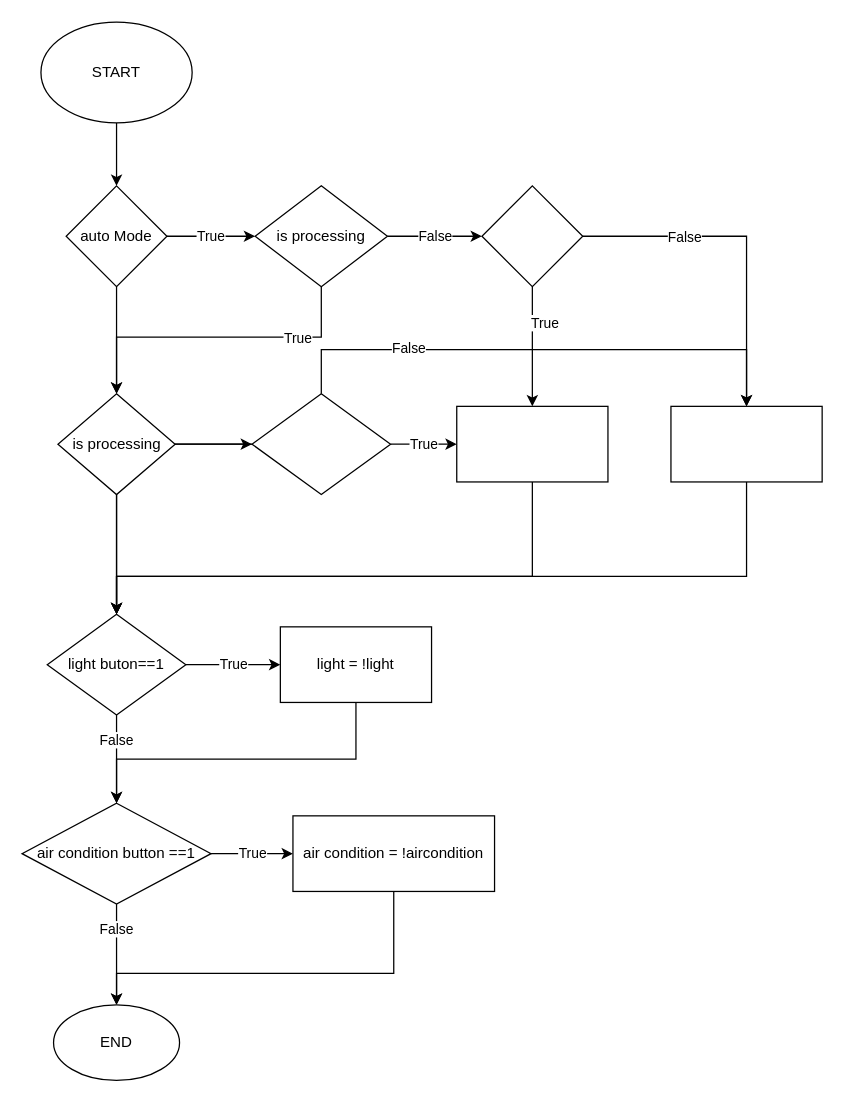
Image size: 844x1103. Some labels were removed from this diagram. Each missing label, with the centre of its shape:
Close Window: the point at 746,443
light sensor > 90: the point at 321,443
open: the point at 532,236
Open WIndow: the point at 531,443
